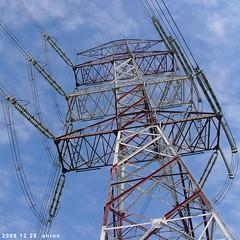power_tower: (22, 24, 240, 240)
